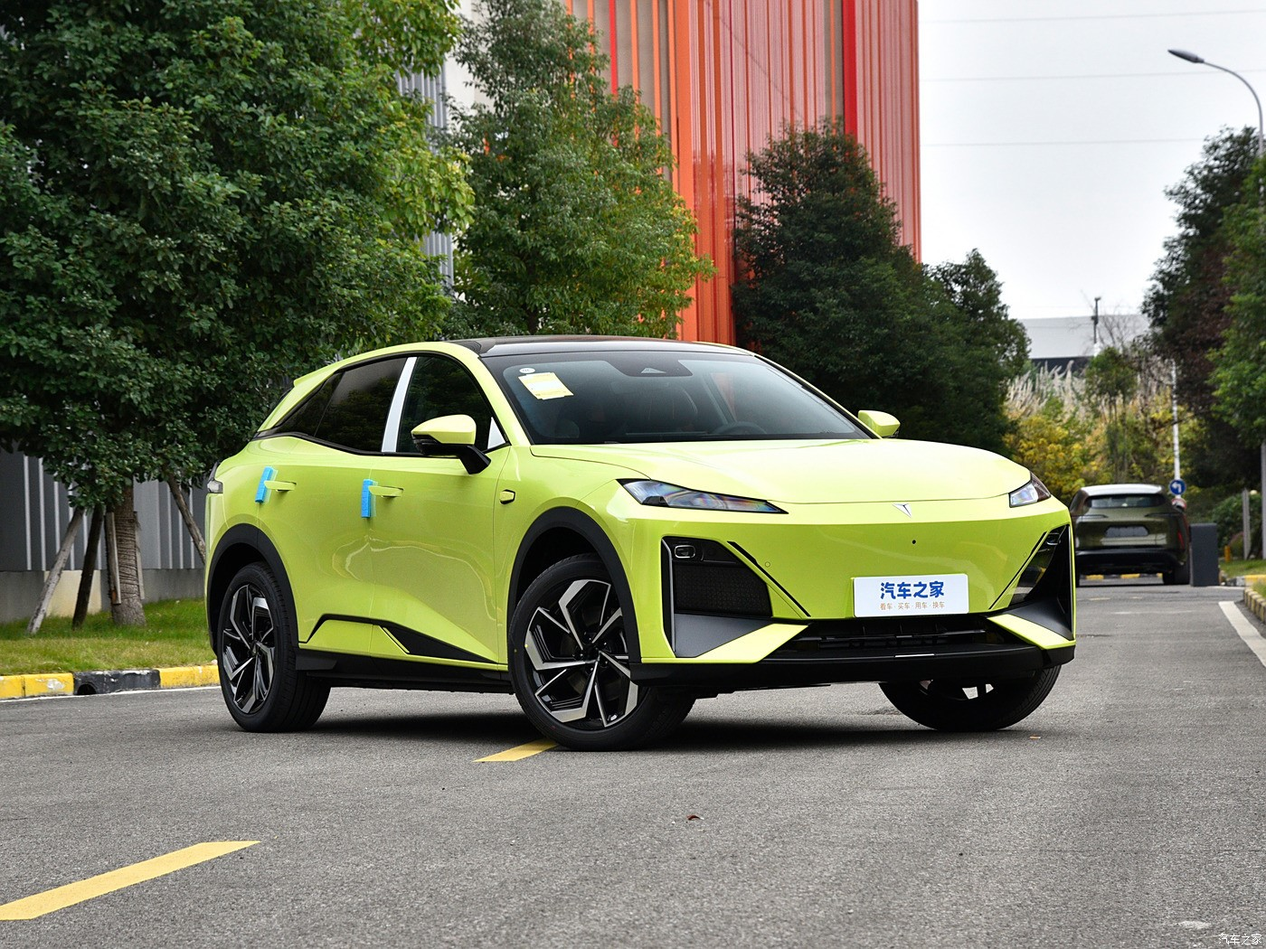Deepal: (893, 503, 912, 516)
